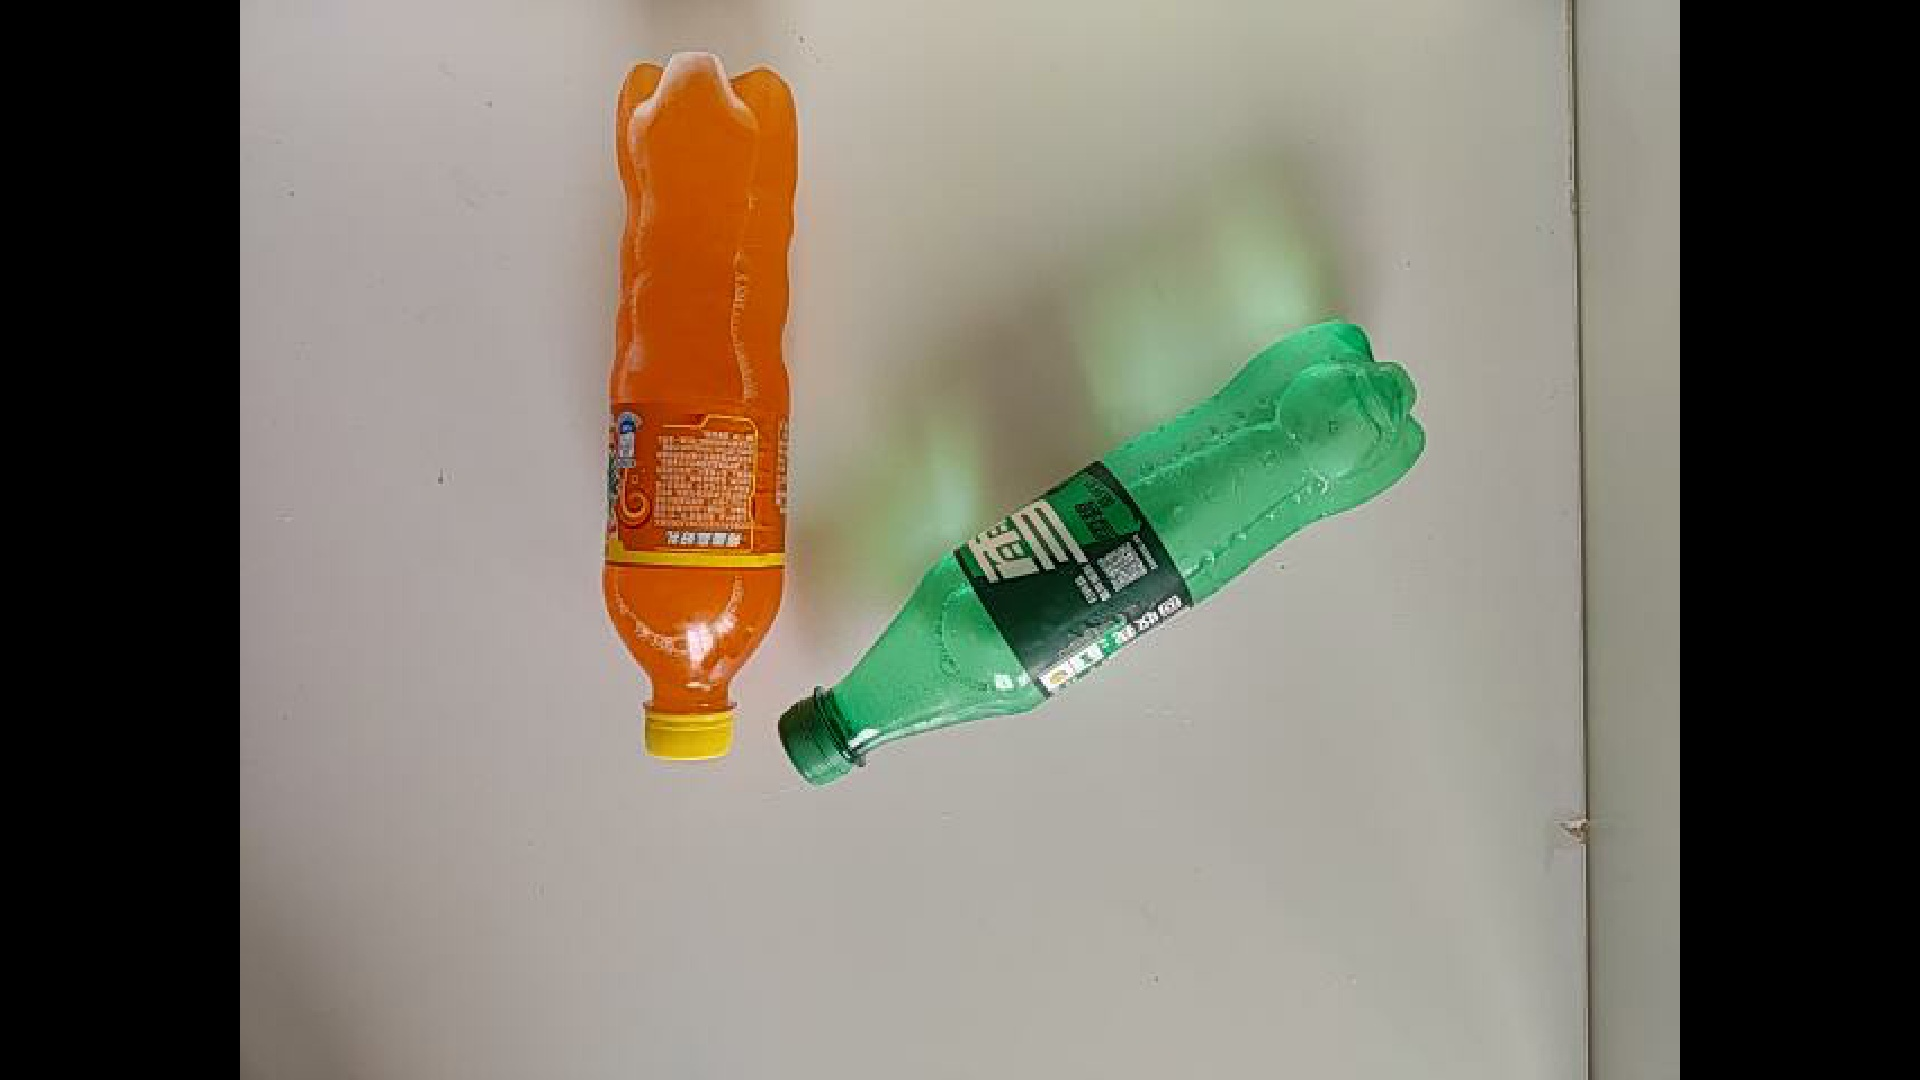fenta: (599, 49, 810, 764)
sprite: (658, 287, 1457, 670)
